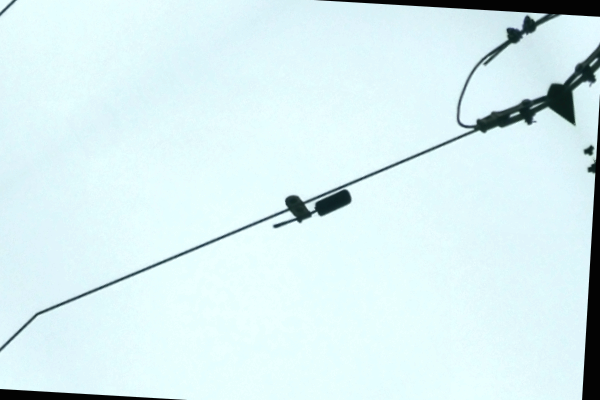damper_defect: (270, 187, 354, 231)
